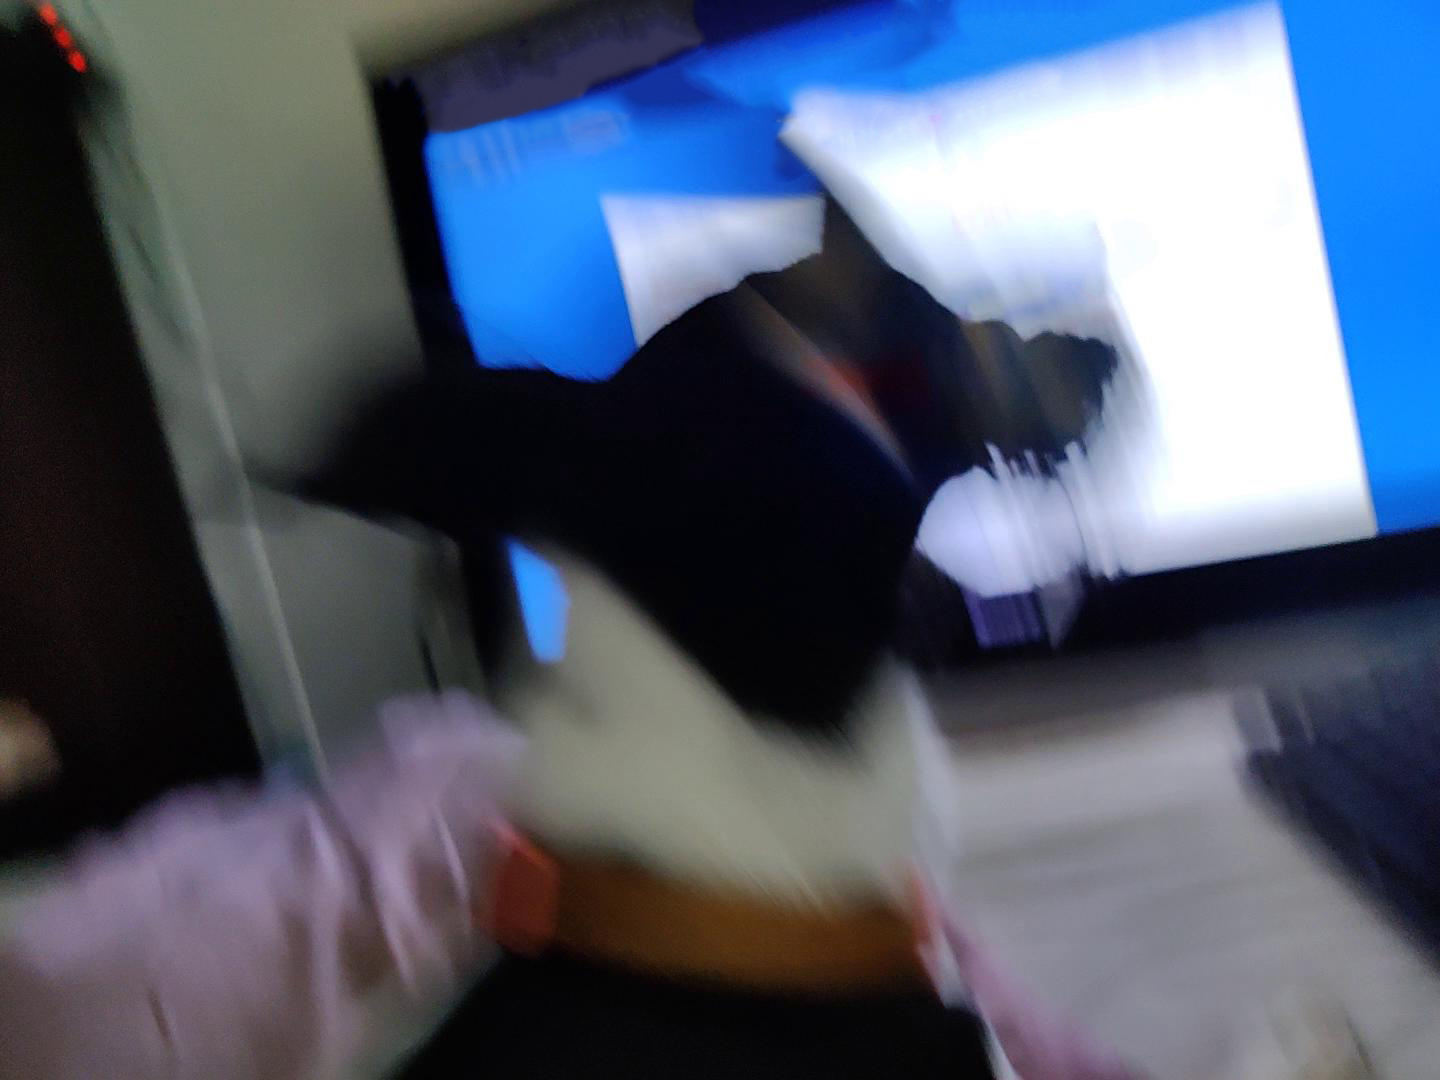Dog: (173, 172, 1130, 1079)
